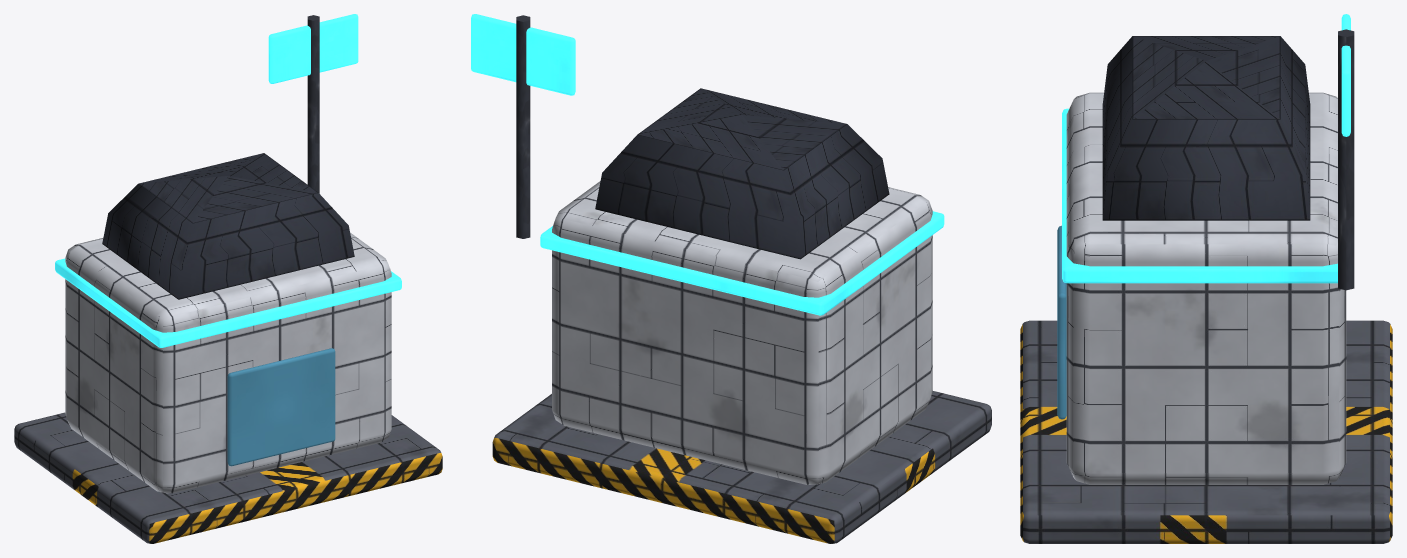
File: sf_shop.glb
The picture shows the model from 3 angles, left to right: view 1: azimuth 30°, elevation 25°; view 2: azimuth 150°, elevation 25°; view 3: azimuth 270°, elevation 25°; orthographic projection. The views are drawn at different scales.
Visible parts, largest first — view 1: Base, Sign; view 2: Base, Sign; view 3: Base, Sign.
Part boxes in pixels (x1,y1,x2,y2): Base: (14,15,442,543); Sign: (268,14,358,83); Base: (492,15,991,543); Sign: (471,14,575,95); Base: (1020,29,1392,543); Sign: (1341,14,1350,136).
Bounding box in the file's own units: 1.11 × 1.2 × 0.8.
Materials: 6 (6 with a texture image).
